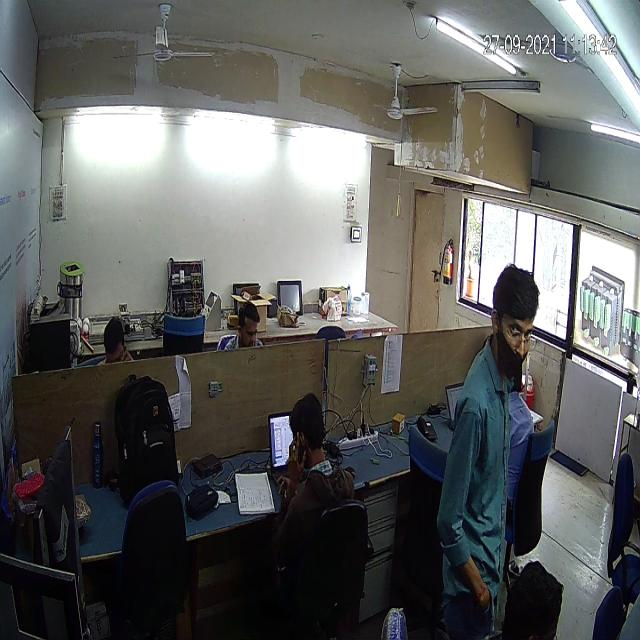adult: (435, 243, 550, 640)
